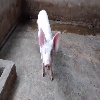heo: (36, 9, 62, 81)
